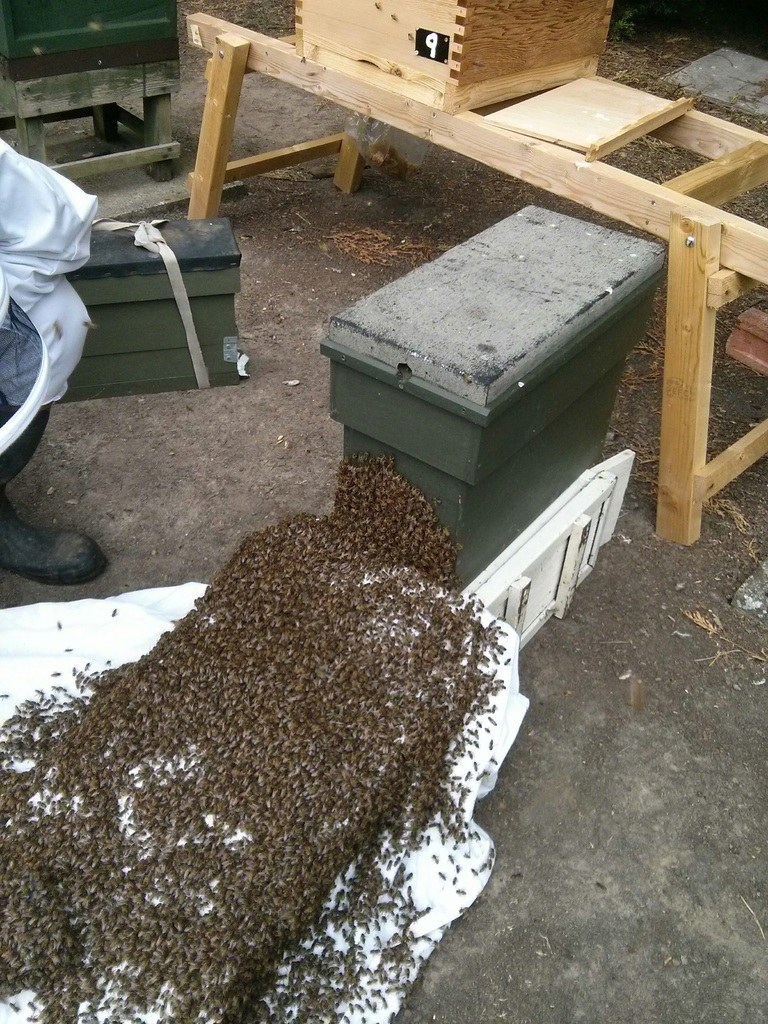bee: (292, 0, 614, 118)
insect: (0, 454, 513, 1023), (4, 504, 90, 588)
